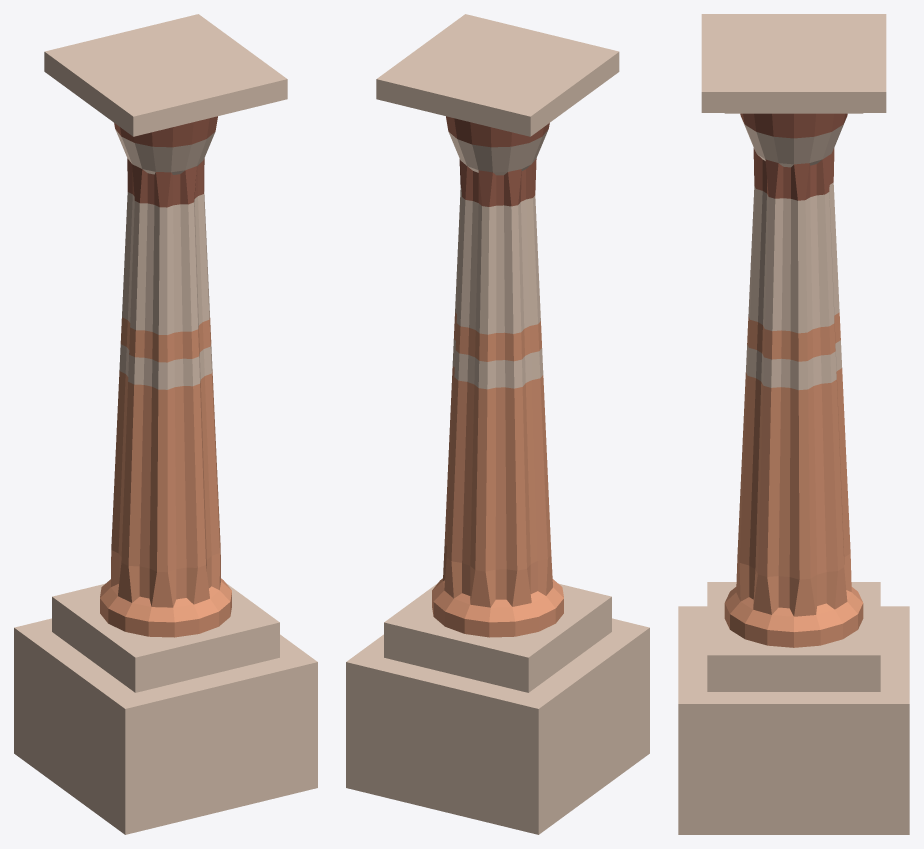
The model's file is greek_column_1.fbx.
3 views of the same model, side by side, from view 1: azimuth 30°, elevation 25°; view 2: azimuth 150°, elevation 25°; view 3: azimuth 270°, elevation 25° (orthographic). The views are drawn at different scales.
Parts seen in each view (by area): view 1: Cylinder; view 2: Cylinder; view 3: Cylinder.
Part boxes in pixels (bbox=[...]): Cylinder: bbox=[14, 14, 317, 834]; Cylinder: bbox=[346, 14, 649, 834]; Cylinder: bbox=[678, 14, 909, 834].
Size of the model in its own units: 200 by 700 by 200.
